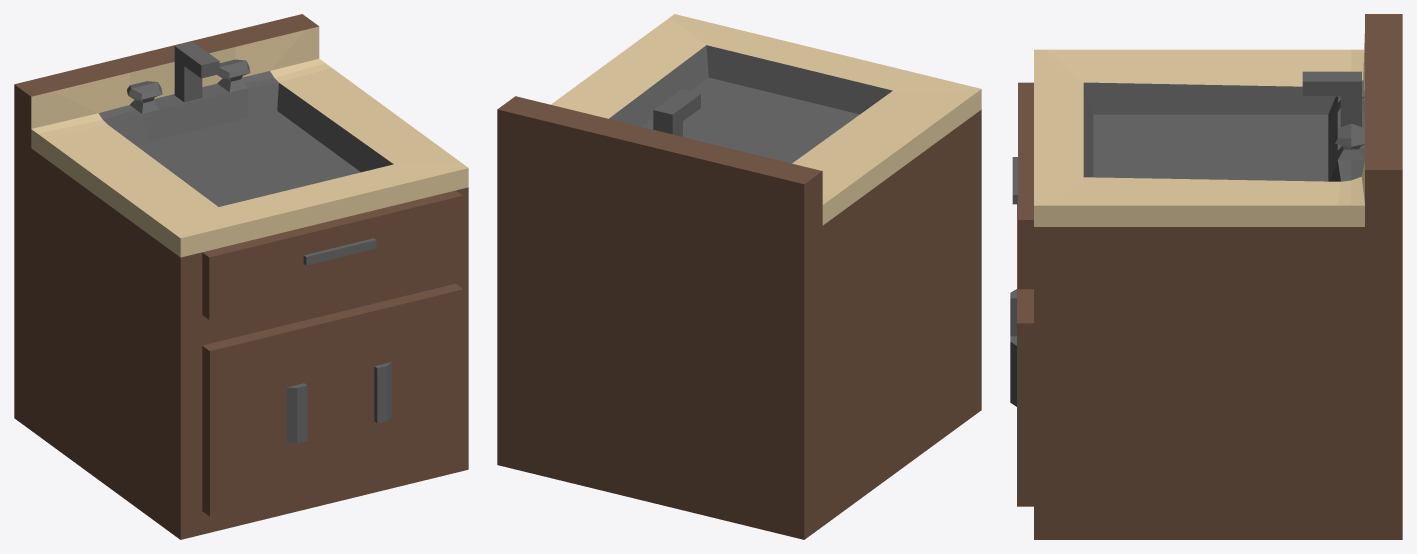
Rendered from sink_counter.fbx.
The picture shows the model from 3 angles, left to right: view 1: azimuth 30°, elevation 25°; view 2: azimuth 150°, elevation 25°; view 3: azimuth 270°, elevation 25°; orthographic projection. The views are drawn at different scales.
Visible parts, largest first — view 1: Cube; view 2: Cube; view 3: Cube.
Boxes of the visible parts, x1,y1,x2,y2 form: Cube: (14, 14, 468, 539); Cube: (497, 14, 981, 539); Cube: (1010, 14, 1402, 539).
Size of the model in its own units: 200 by 233 by 213.
